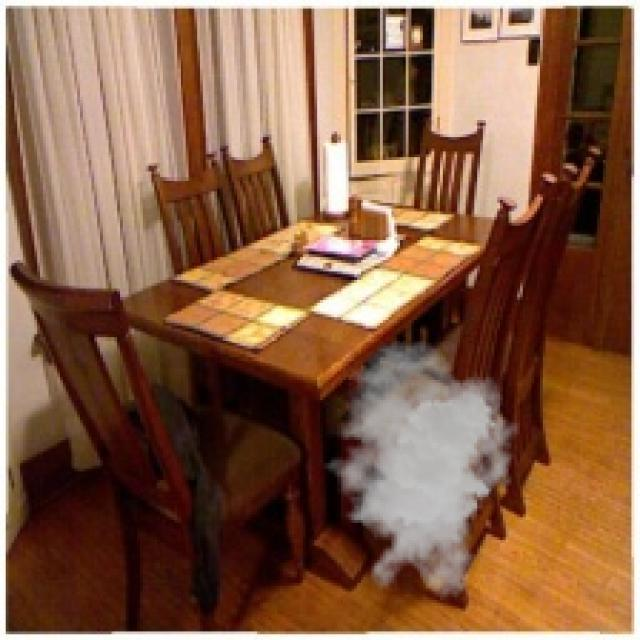Smoke: (314, 340, 520, 600)
